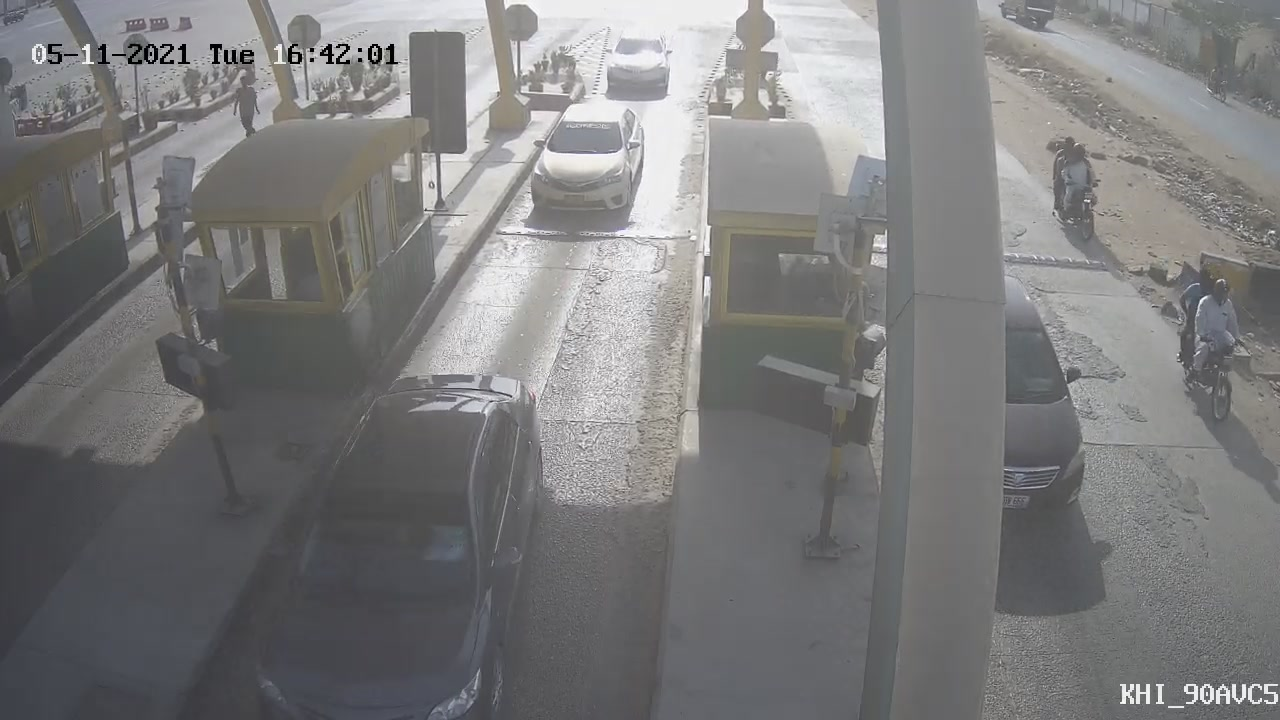F1: (516, 87, 660, 246)
